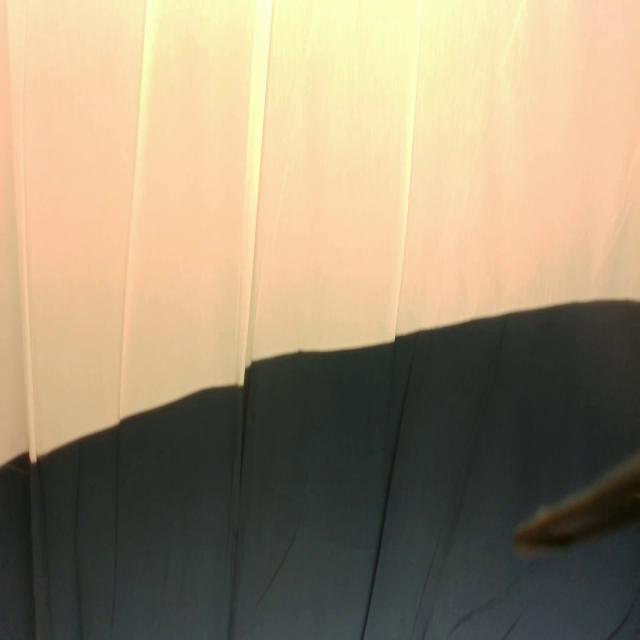crease: (116, 0, 162, 425), (233, 0, 277, 384), (355, 381, 410, 634), (11, 1, 38, 462), (392, 2, 427, 342), (257, 536, 300, 607), (449, 600, 490, 634), (499, 607, 526, 640)
